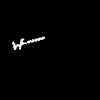double_crochet: (13, 37, 44, 49)
